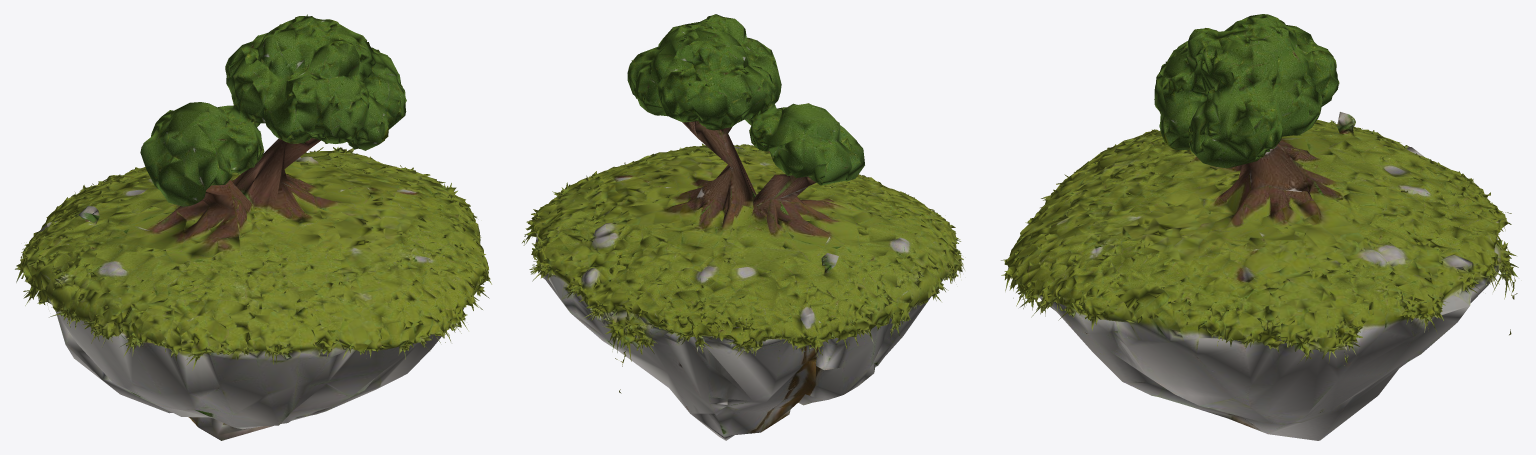
Rendered from island.glb.
3 views of the same model, side by side, from view 1: azimuth 30°, elevation 25°; view 2: azimuth 150°, elevation 25°; view 3: azimuth 270°, elevation 25° (orthographic). The views are drawn at different scales.
Bounding box in the file's own units: 1.86 × 1.74 × 1.85.
1 material, 1 textured.
